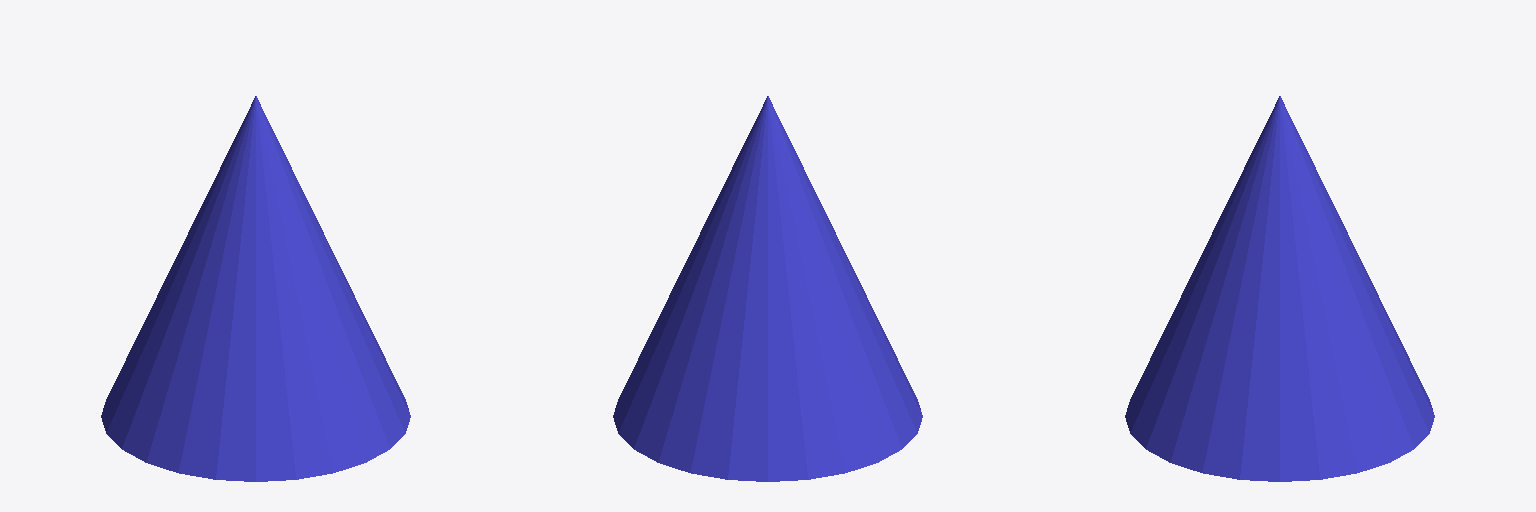
Rendered from BasicCone.obj.
3 renders of one model, left to right at view 1: azimuth 30°, elevation 25°; view 2: azimuth 150°, elevation 25°; view 3: azimuth 270°, elevation 25°, orthographic.
Parts seen in each view (by area): view 1: Cone001; view 2: Cone001; view 3: Cone001.
Boxes of the visible parts, box(x1,y1,x2,y2) form: Cone001: box(101, 96, 410, 481); Cone001: box(613, 96, 922, 481); Cone001: box(1125, 96, 1434, 481).
Bounding box in the file's own units: 25.18 × 28.79 × 25.18.